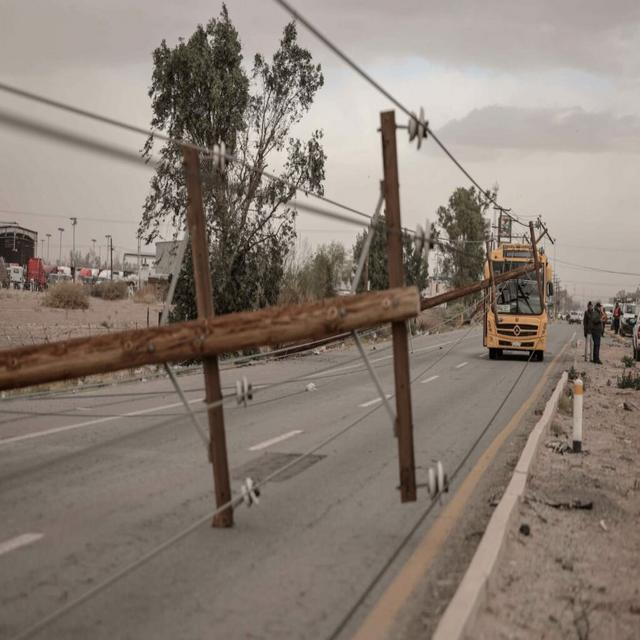Inclined Pole: (0, 107, 457, 535), (423, 220, 557, 328)
